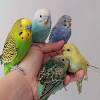budgie: (1, 18, 33, 77), (37, 54, 70, 100), (62, 43, 93, 77), (32, 7, 52, 44), (50, 13, 73, 44)
